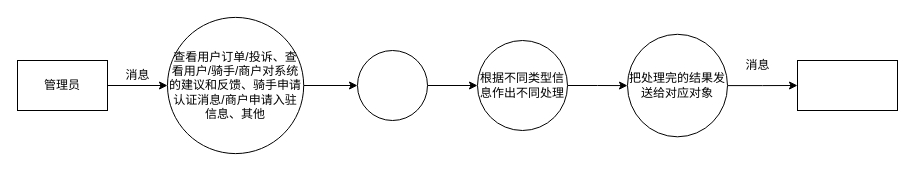
The diagram is 915 pixels wide and 172 high, and some of its shapes have lost their labels. The centre of each missing label's shape, as x and y in pixels:
"判断 消息类型" belongs at pixel 392 85.
"用户/骑手/商户" belongs at pixel 847 85.
